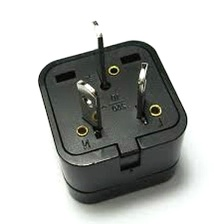three_eye_plug: (34, 13, 193, 208)
